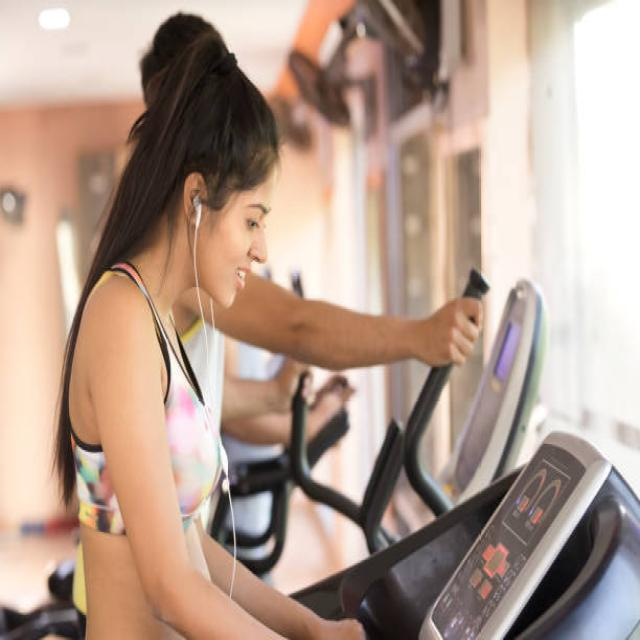Earphone: (193, 194, 237, 596)
